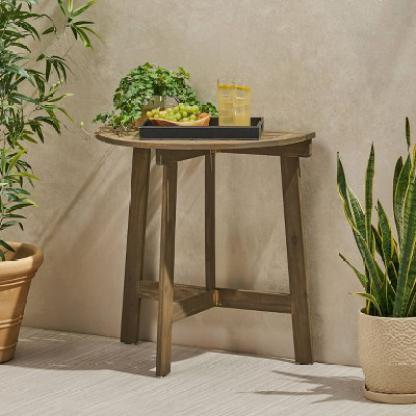table: (87, 117, 322, 380)
